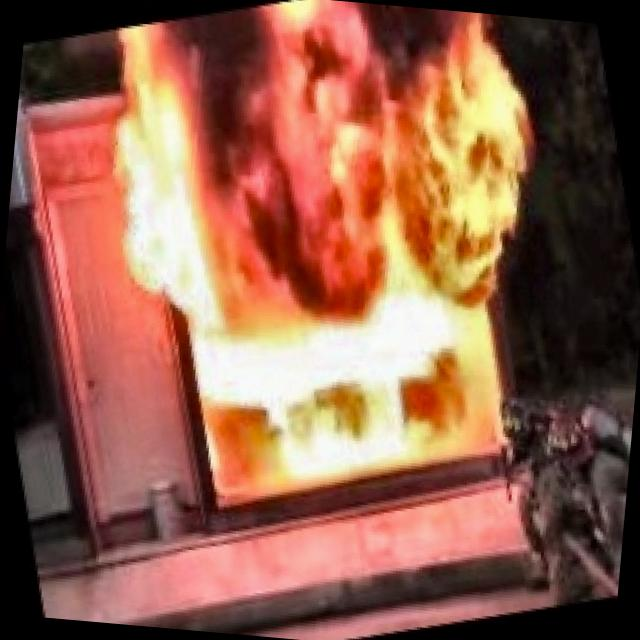fire: (4, 0, 635, 595)
